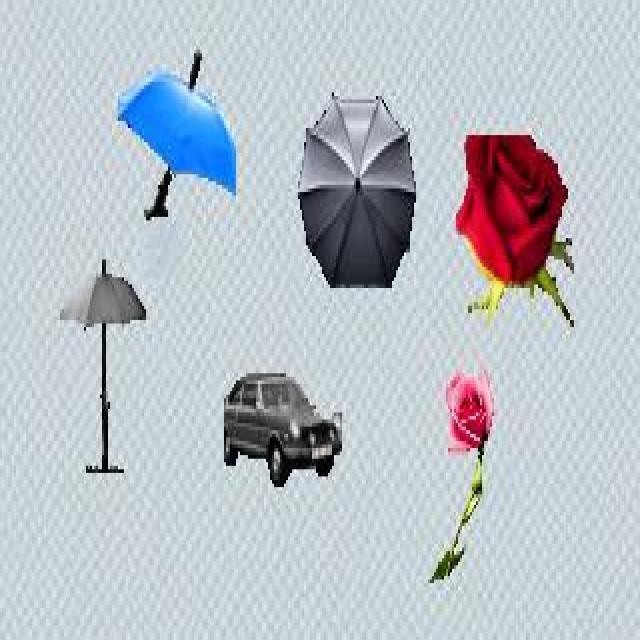Other Objects: (455, 134, 576, 328), (428, 354, 497, 584)
